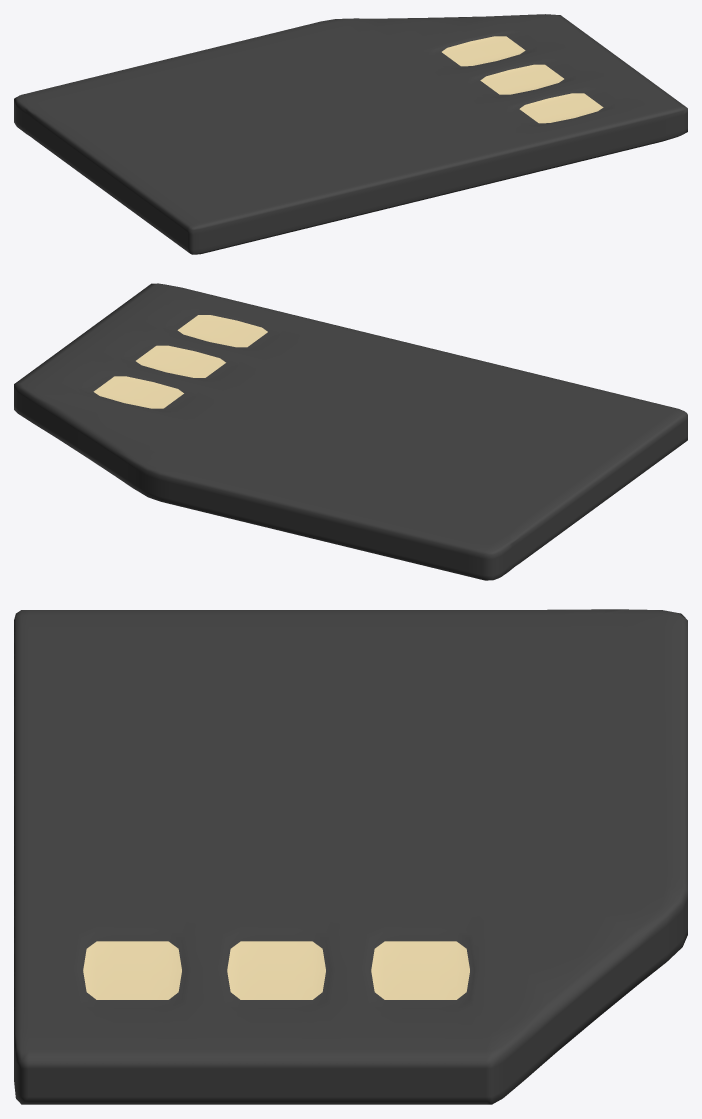
File: sdcard2.fbx
3 views of the same model, one above another, from view 1: azimuth 30°, elevation 25°; view 2: azimuth 150°, elevation 25°; view 3: azimuth 270°, elevation 25° (orthographic). The views are drawn at different scales.
Visible parts, largest first — view 1: sdcard:Mesh; view 2: sdcard:Mesh; view 3: sdcard:Mesh.
Part boxes in pixels (x1,y1,x2,y2): sdcard:Mesh: (14, 14, 687, 254); sdcard:Mesh: (14, 283, 687, 580); sdcard:Mesh: (14, 609, 687, 1104).
Bounding box in the file's own units: 4.99 × 0.2767 × 3.16.
